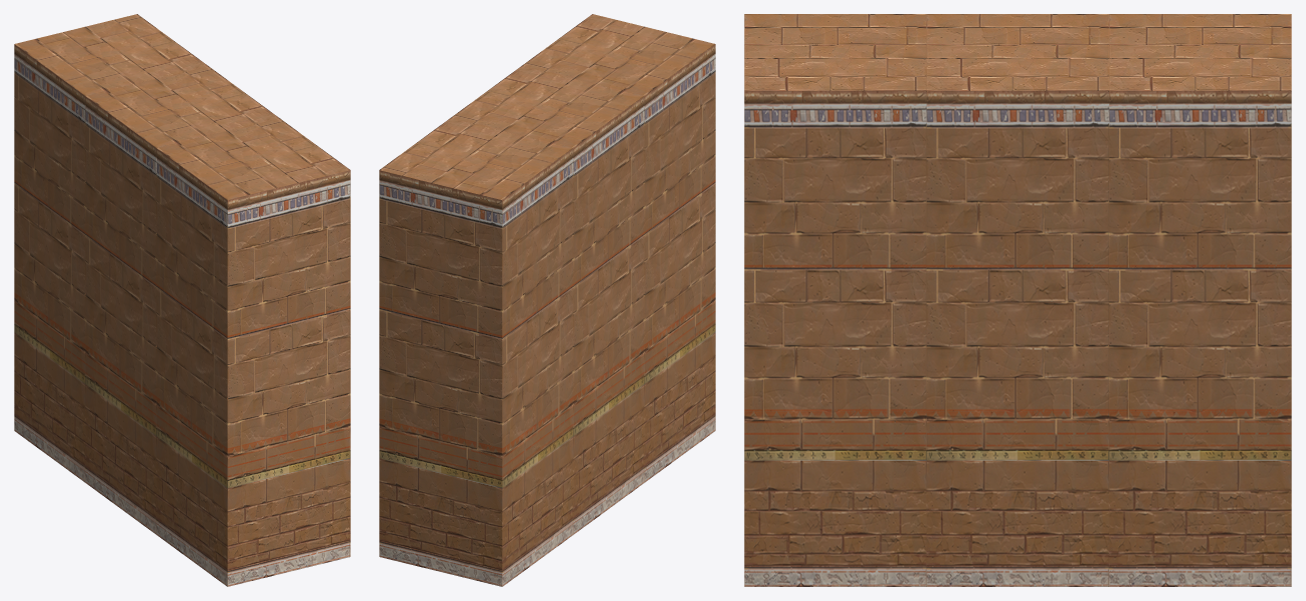
Rendered from overhang_3units.fbx.
The picture shows the model from 3 angles, left to right: view 1: azimuth 30°, elevation 25°; view 2: azimuth 150°, elevation 25°; view 3: azimuth 270°, elevation 25°; orthographic projection. The views are drawn at different scales.
Visible parts, largest first — view 1: pCube1, pCube2, pCube3; view 2: pCube3, pCube1, pCube2; view 3: pCube2, pCube1, pCube3.
Boxes of the visible parts, bbox=[...] form: pCube1: bbox=[156, 118, 350, 586]; pCube2: bbox=[85, 66, 278, 534]; pCube3: bbox=[14, 14, 207, 482]; pCube3: bbox=[379, 118, 573, 586]; pCube1: bbox=[522, 14, 715, 482]; pCube2: bbox=[451, 66, 644, 534]; pCube2: bbox=[926, 14, 1109, 586]; pCube1: bbox=[744, 14, 926, 586]; pCube3: bbox=[1109, 14, 1291, 586].
Bounding box in the file's own units: 1 × 3 × 3.
Materials: 1 (1 with a texture image).
